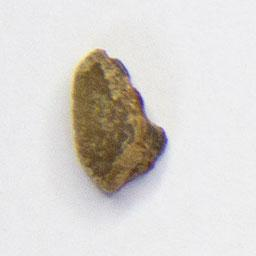defect: (66, 44, 175, 201)
